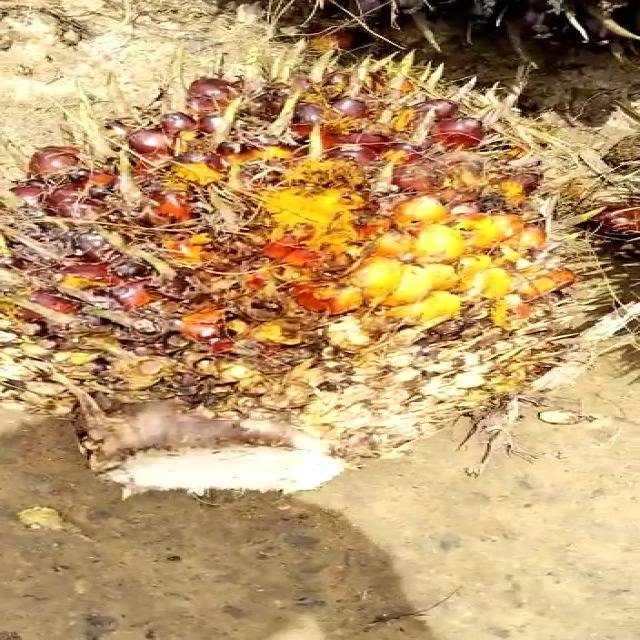palm oil: (1, 57, 612, 515)
